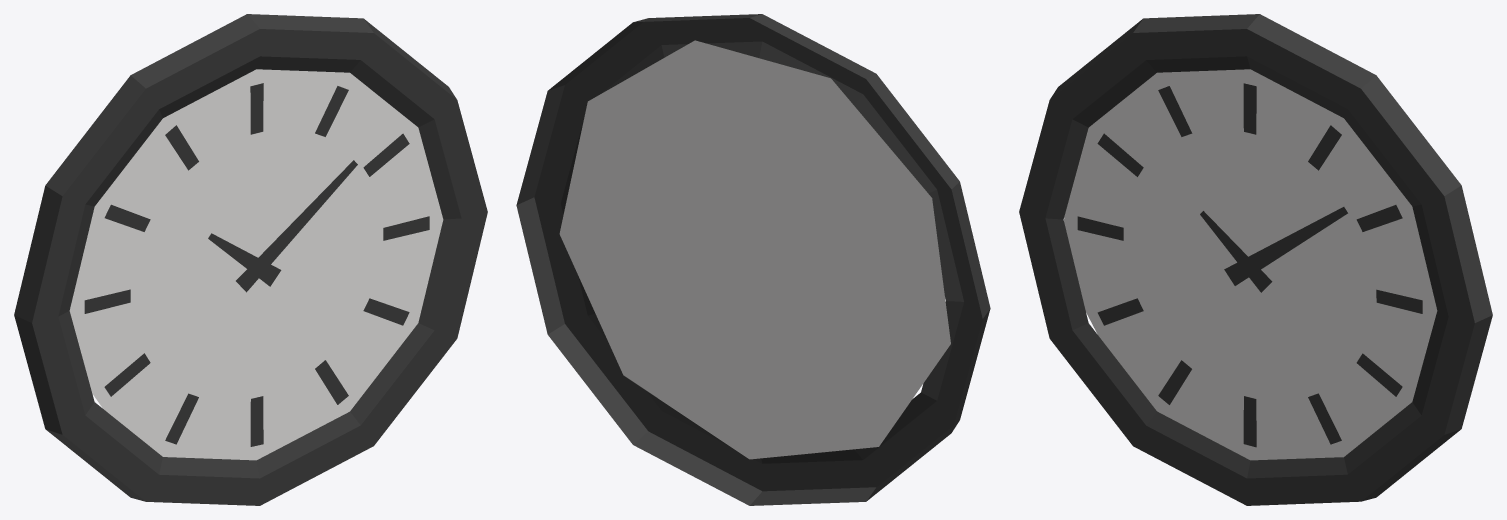
File: Clock_2.fbx
The picture shows the model from 3 angles, left to right: view 1: azimuth 30°, elevation 25°; view 2: azimuth 150°, elevation 25°; view 3: azimuth 330°, elevation 25°; orthographic projection.
Visible parts, largest first — view 1: Clock_2; view 2: Clock_2; view 3: Clock_2.
Boxes of the visible parts, x1=… form: Clock_2: x1=14, y1=14, x2=487, y2=505; Clock_2: x1=516, y1=14, x2=990, y2=505; Clock_2: x1=1019, y1=14, x2=1492, y2=505.
Size of the model in its own units: 104 by 5 by 104.
